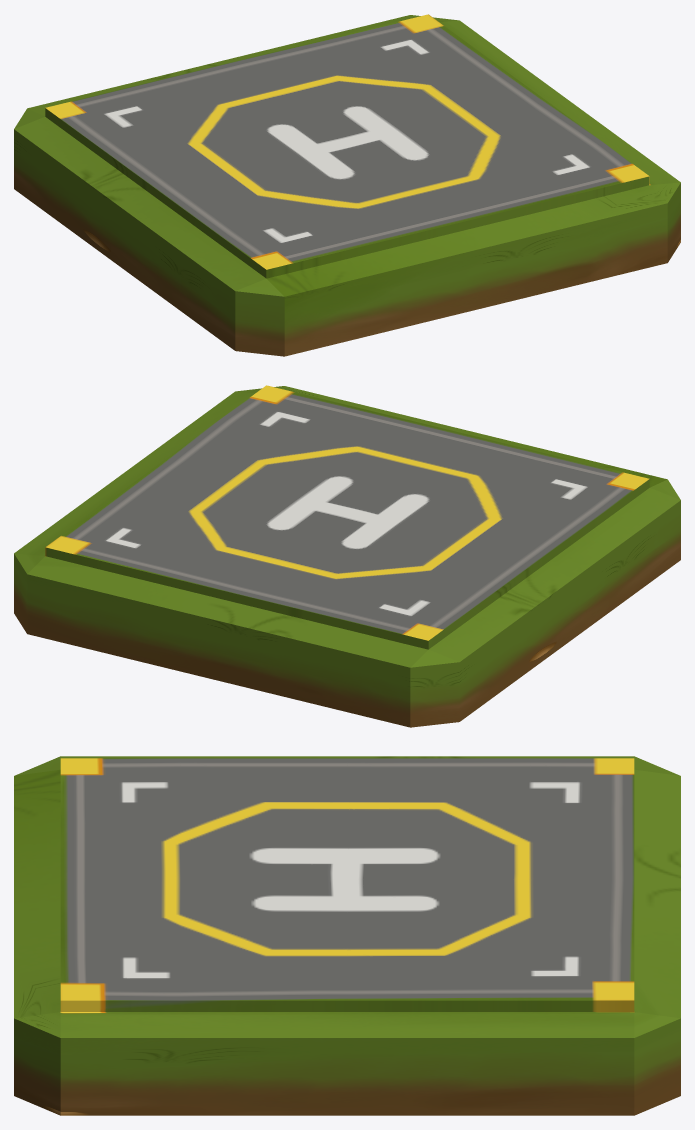
The model's file is HELI PAD.fbx.
The picture shows the model from 3 angles, top to bottom: view 1: azimuth 30°, elevation 25°; view 2: azimuth 150°, elevation 25°; view 3: azimuth 270°, elevation 25°; orthographic projection. The views are drawn at different scales.
Parts seen in each view (by area): view 1: Cube.004; view 2: Cube.004; view 3: Cube.004.
Part boxes in pixels (x1,y1,x2,y2): Cube.004: (14,14,680,356); Cube.004: (14,385,680,727); Cube.004: (14,756,680,1115).
Size of the model in its own units: 293 by 49.38 by 293.
